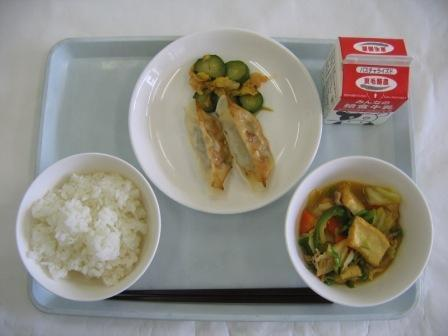Milk: (308, 27, 420, 135)
Rice: (11, 160, 163, 301)
Salad: (170, 50, 280, 116)
tushpara-fried: (181, 93, 281, 194)
vegetable based cooked food: (292, 157, 422, 310)
